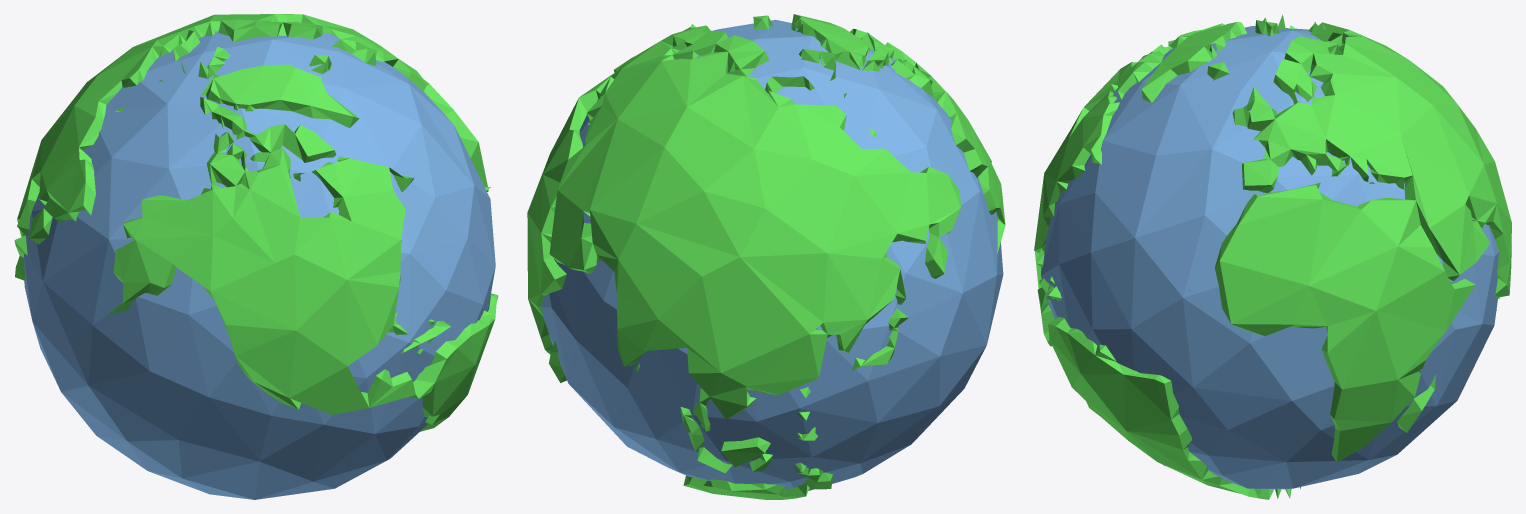
The model's file is low_poly_earth_complete.fbx.
3 views of the same model, side by side, from view 1: azimuth 30°, elevation 25°; view 2: azimuth 150°, elevation 25°; view 3: azimuth 270°, elevation 25° (orthographic). The views are drawn at different scales.
Visible parts, largest first — view 1: low_poly_earth; view 2: low_poly_earth; view 3: low_poly_earth.
Boxes of the visible parts, x1,y1,x2,y2 form: low_poly_earth: (14,14,498,499); low_poly_earth: (527,14,1005,499); low_poly_earth: (1034,14,1511,499).
Bounding box in the file's own units: 195 × 201 × 199.
